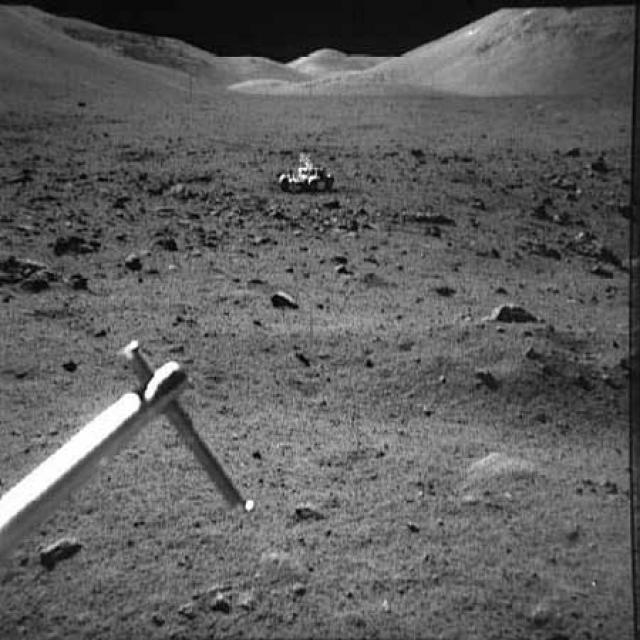artifact: (2, 324, 260, 574), (258, 149, 349, 203)
rock: (476, 290, 542, 330), (0, 250, 56, 295), (40, 526, 86, 572), (394, 201, 460, 232), (267, 284, 299, 316)
